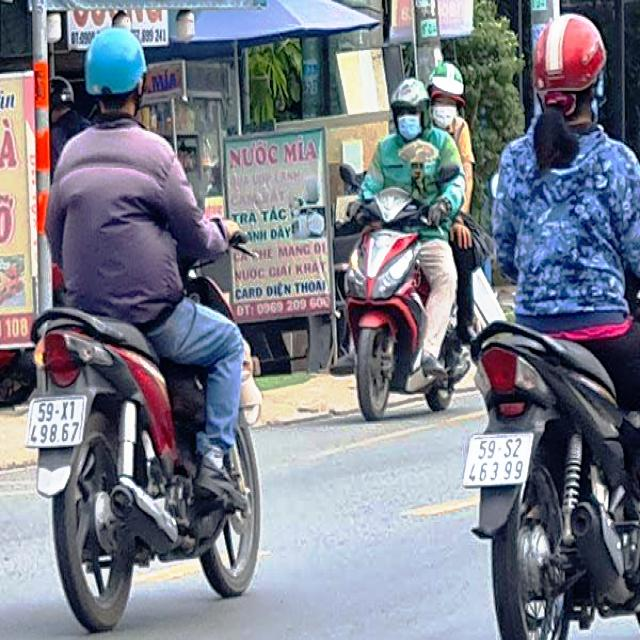license_plate: (462, 435, 535, 488), (28, 399, 87, 450)
